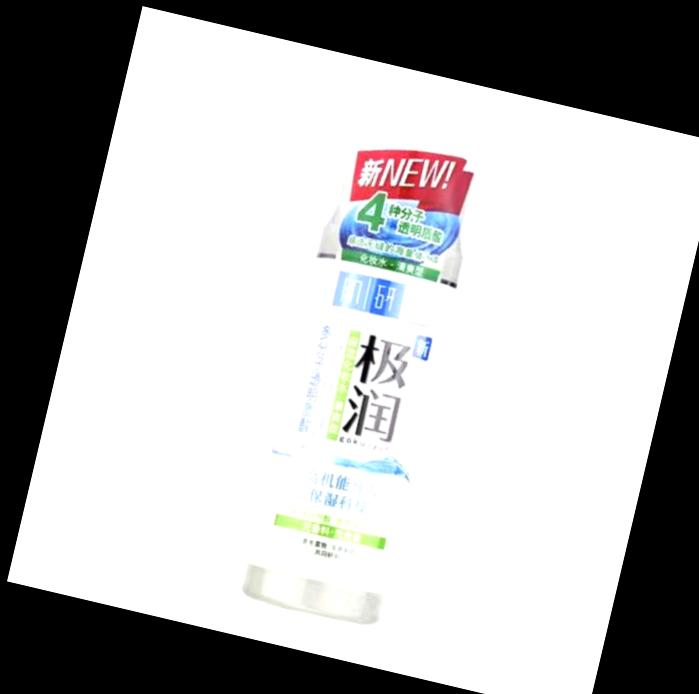cosmetic: (238, 106, 487, 619)
